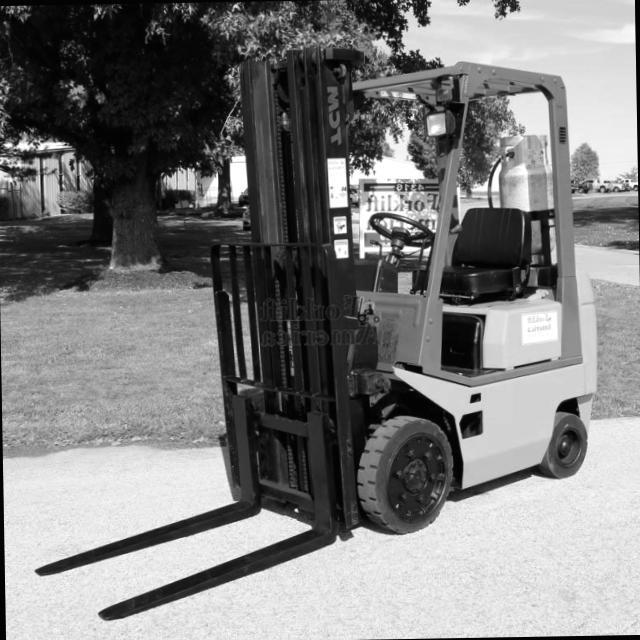forklift: (190, 30, 608, 555)
